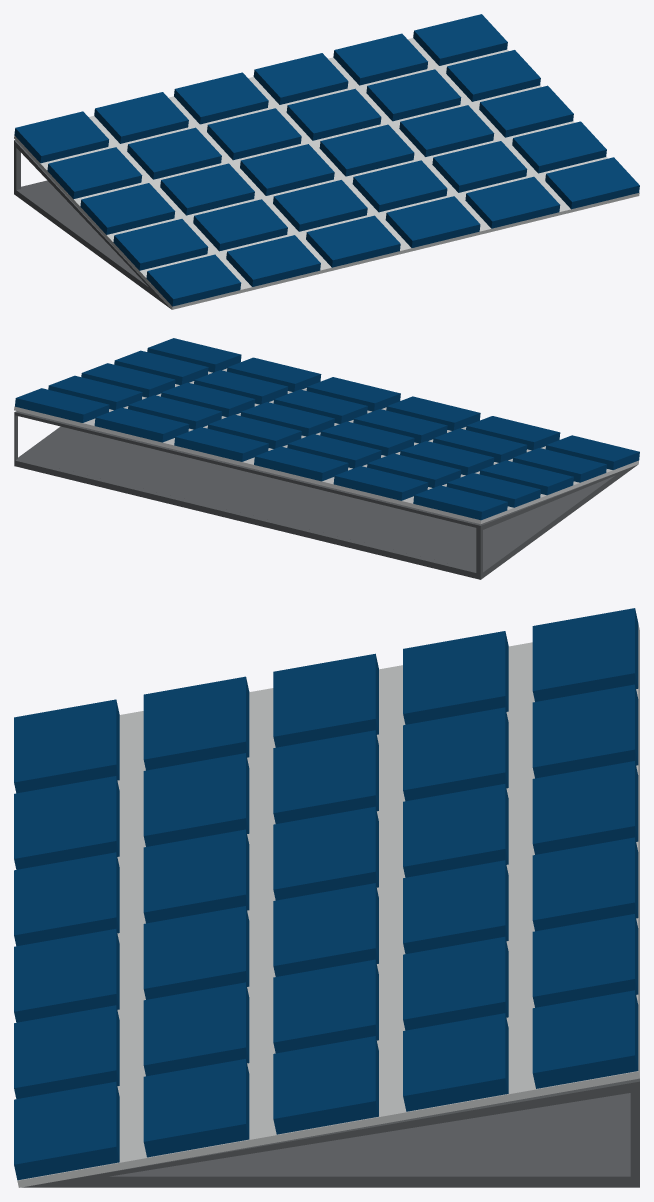
File: Solar Panel 5x6 small.glb
3 renders of one model, top to bottom at view 1: azimuth 30°, elevation 25°; view 2: azimuth 150°, elevation 25°; view 3: azimuth 270°, elevation 25°, orthographic. The views are drawn at different scales.
Visible parts, largest first — view 1: Mesh_Mesh_head_geo.001_lambert2SG.001; view 2: Mesh_Mesh_head_geo.001_lambert2SG.001; view 3: Mesh_Mesh_head_geo.001_lambert2SG.001.
Boxes of the visible parts, <box> form: Mesh_Mesh_head_geo.001_lambert2SG.001: <box>14,14,639,309</box>; Mesh_Mesh_head_geo.001_lambert2SG.001: <box>14,338,639,579</box>; Mesh_Mesh_head_geo.001_lambert2SG.001: <box>14,608,639,1187</box>.
Bounding box in the file's own units: 181 × 24.9 × 107.
